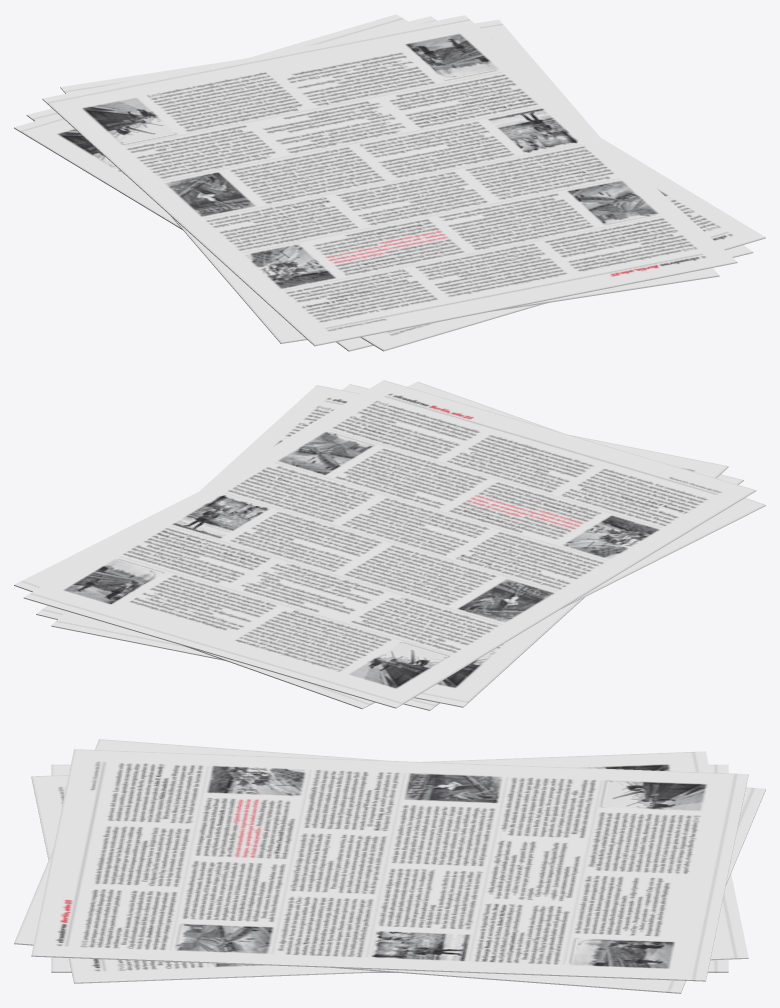
File: Papers.FBX
3 renders of one model, top to bottom at view 1: azimuth 30°, elevation 25°; view 2: azimuth 150°, elevation 25°; view 3: azimuth 270°, elevation 25°, orthographic. The views are drawn at different scales.
Visible parts, largest first — view 1: papers; view 2: papers; view 3: papers.
Part boxes in pixels (x1,y1,x2,y2): papers: (14,14,765,351); papers: (14,380,765,710); papers: (14,739,765,993).
Bounding box in the file's own units: 257 × 322 × 2.09.
1 material, 1 textured.
